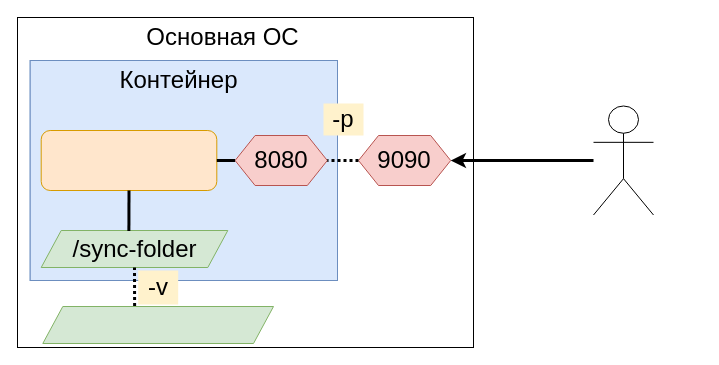
This 719x365 diagram has some shape labels left out. Here are the shapes that lost their labels. From the top down, the centre of each, then its label:
At point 128,160: "http.server".
At point 623,160: "Пользователь".
At point 158,325: "/root/data".
